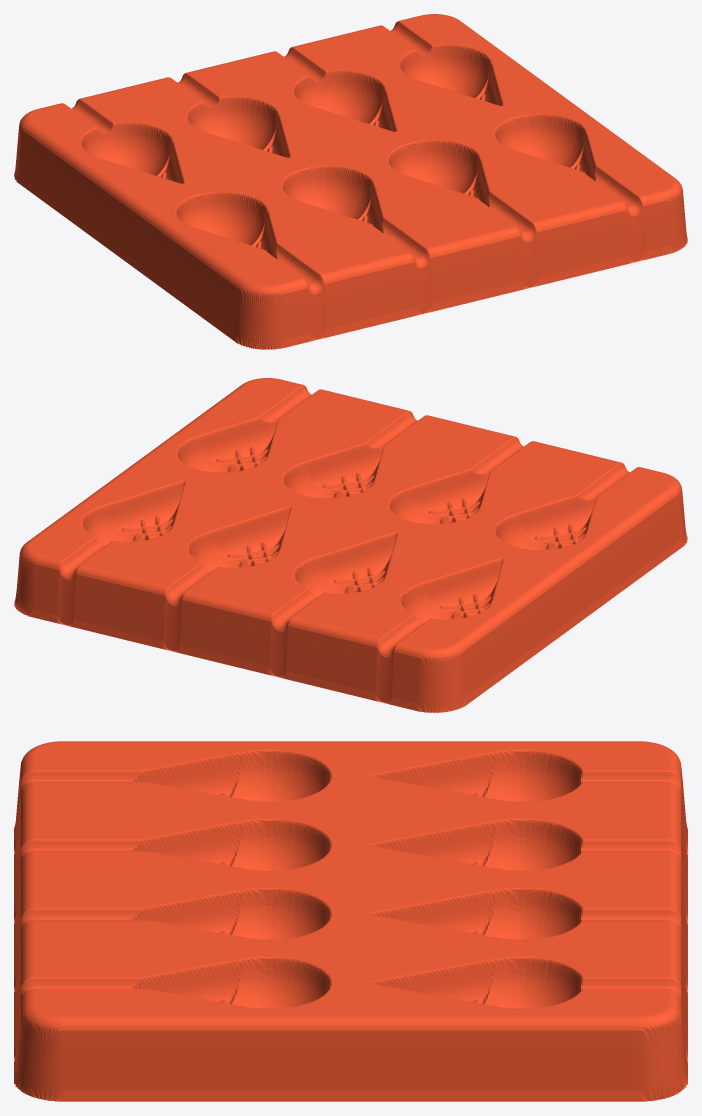
Rendered from mold.glb.
The picture shows the model from 3 angles, top to bottom: view 1: azimuth 30°, elevation 25°; view 2: azimuth 150°, elevation 25°; view 3: azimuth 270°, elevation 25°; orthographic projection. The views are drawn at different scales.
Parts seen in each view (by area): view 1: geometry_0; view 2: geometry_0; view 3: geometry_0.
Boxes of the visible parts, x1,y1,x2,y2 form: geometry_0: (14, 14, 687, 349); geometry_0: (14, 378, 687, 712); geometry_0: (14, 741, 687, 1101).
Size of the model in its own units: 0.1254 by 0.0155 by 0.1229.
